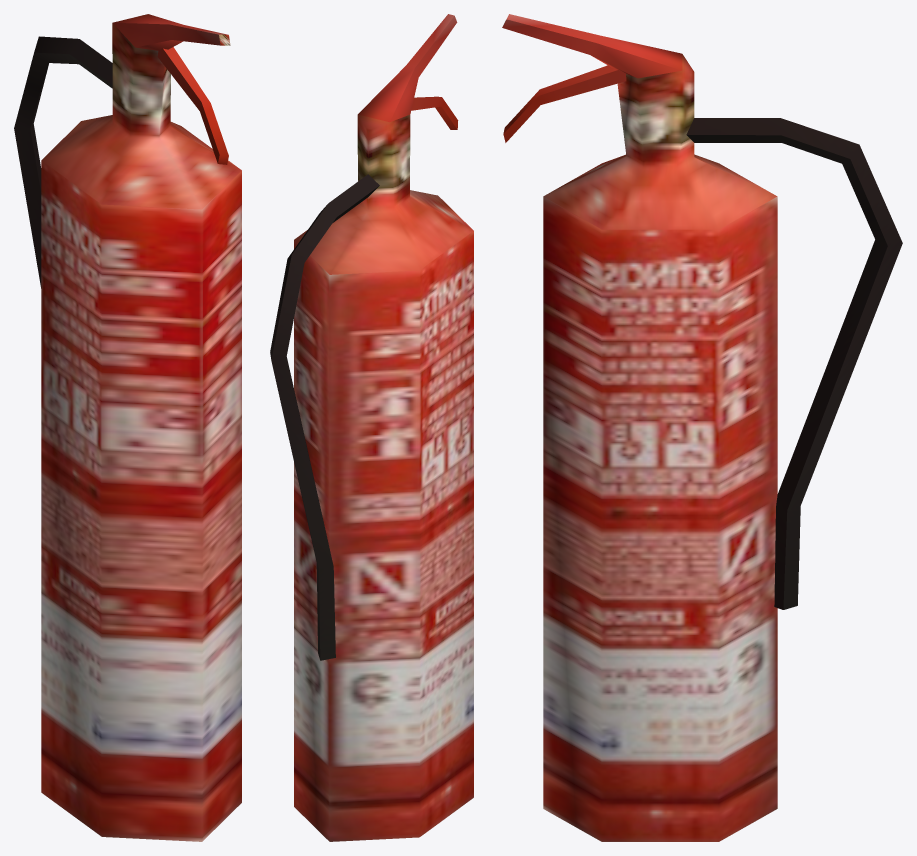
The model's file is Extintor.obj.
3 renders of one model, left to right at view 1: azimuth 30°, elevation 25°; view 2: azimuth 150°, elevation 25°; view 3: azimuth 270°, elevation 25°, orthographic. The views are drawn at different scales.
Visible parts, largest first — view 1: Extinguidor; view 2: Extinguidor; view 3: Extinguidor.
Boxes of the visible parts, x1,y1,x2,y2 form: Extinguidor: (14,14,241,841); Extinguidor: (270,14,473,841); Extinguidor: (502,14,902,841).
Bounding box in the file's own units: 0.6249 × 3.5 × 1.6.
Materials: 1 (1 with a texture image).
